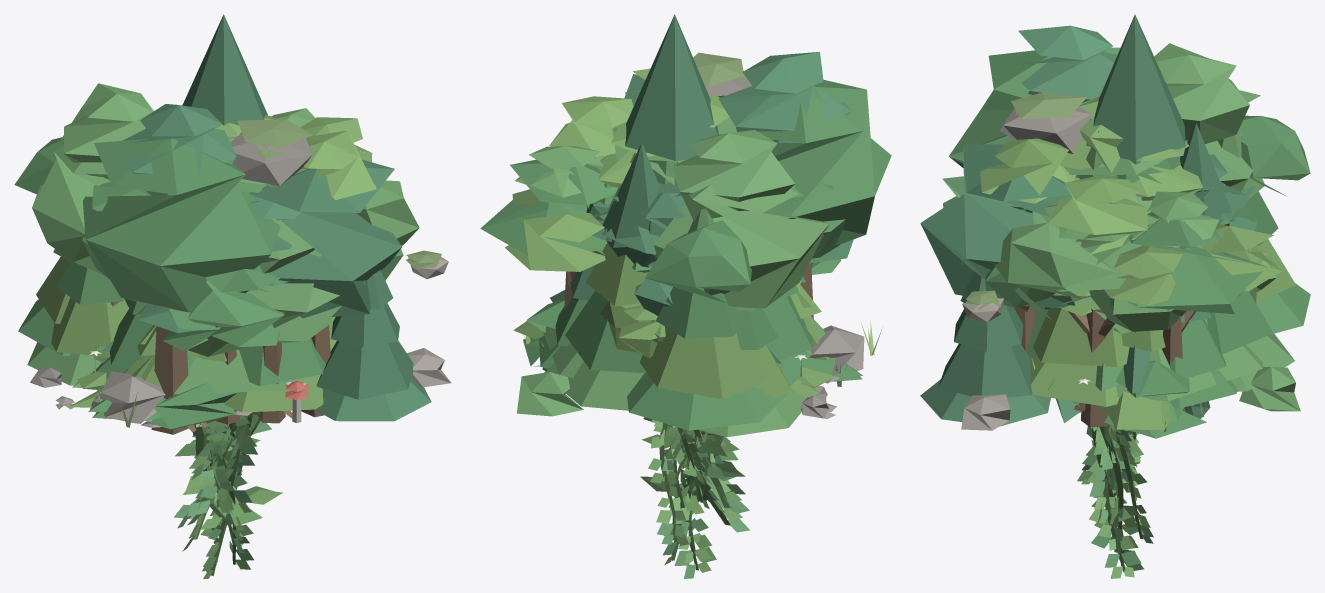
The model's file is kit_meadow_decor.glb.
3 views of the same model, side by side, from view 1: azimuth 30°, elevation 25°; view 2: azimuth 150°, elevation 25°; view 3: azimuth 270°, elevation 25° (orthographic).
Visible parts, largest first — view 1: rock_01, rock_02, rock_03, tree_05, tree_01, tree_10, rock_05, tree_09, rock_17, tree_03, tree_08, tree_02 (+8 smaller); view 2: rock_01, rock_02, rock_03, tree_05, tree_10, tree_01, tree_02, tree_08, tree_03, rock_04, rock_06, hang_01 (+15 smaller); view 3: rock_02, rock_03, rock_01, tree_10, tree_01, tree_05, tree_09, tree_03, rock_17, rock_07, tree_02, tree_08 (+9 smaller).
Part boxes in pixels (box(x1,y1,x2,y2)): rock_01: box(83, 104, 315, 434); rock_02: box(14, 83, 419, 417); rock_03: box(18, 117, 431, 421); tree_05: box(188, 199, 364, 423); tree_01: box(27, 118, 451, 427); tree_10: box(90, 14, 308, 422); rock_05: box(134, 304, 330, 412); tree_09: box(129, 119, 312, 308); rock_17: box(72, 326, 237, 429); tree_03: box(138, 304, 248, 424); tree_08: box(100, 353, 226, 427); tree_02: box(93, 298, 193, 418); rock_01: box(480, 52, 891, 318); rock_02: box(624, 68, 845, 308); rock_03: box(512, 96, 829, 430); tree_05: box(517, 143, 659, 416); tree_10: box(543, 14, 806, 378); tree_01: box(699, 307, 836, 442); tree_02: box(600, 156, 847, 386); tree_08: box(523, 299, 881, 383); tree_03: box(539, 183, 853, 368); rock_04: box(600, 301, 665, 358); rock_06: box(604, 95, 783, 368); hang_01: box(648, 423, 724, 545); rock_02: box(920, 43, 1310, 351); rock_03: box(920, 128, 1310, 427); rock_01: box(949, 25, 1281, 411); tree_10: box(1048, 14, 1262, 401); tree_01: box(961, 130, 1129, 430); tree_05: box(942, 123, 1300, 411); tree_09: box(999, 92, 1091, 153); tree_03: box(1165, 311, 1237, 408); rock_17: box(1104, 345, 1210, 429); rock_07: box(1032, 118, 1231, 248); tree_02: box(1052, 194, 1186, 333); tree_08: box(1104, 360, 1206, 438).
Bounding box in the file's own units: 5.37 × 8.79 × 5.5.
